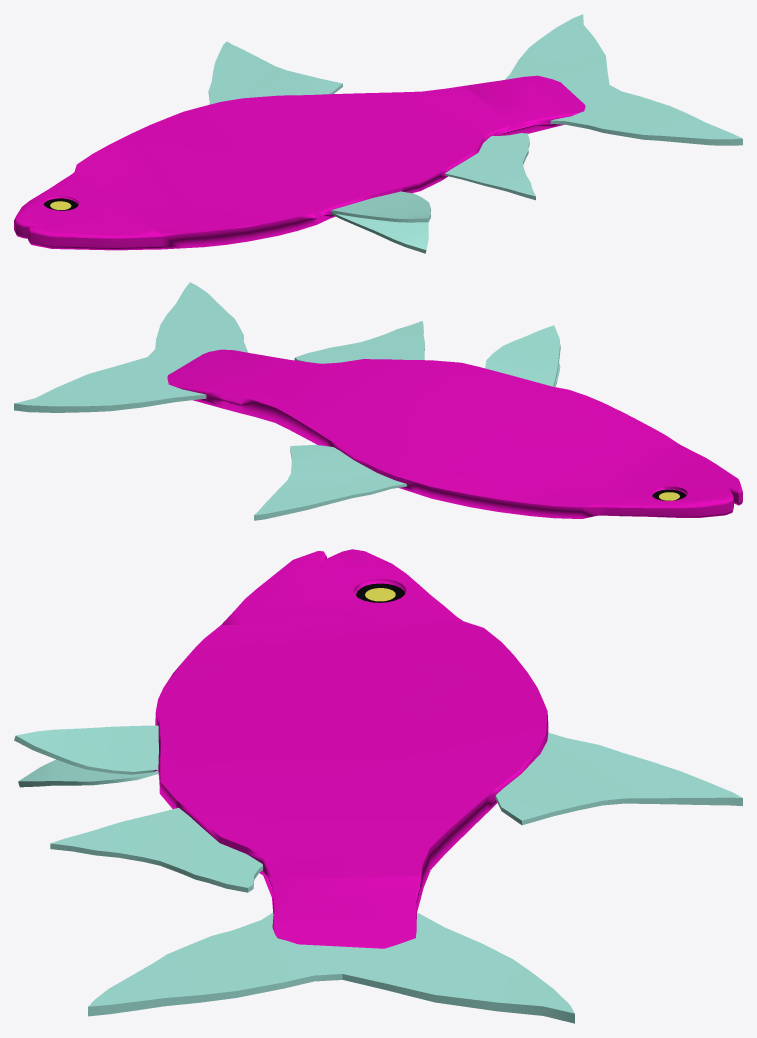
The model's file is kutvis.fbx.
The picture shows the model from 3 angles, top to bottom: view 1: azimuth 30°, elevation 25°; view 2: azimuth 150°, elevation 25°; view 3: azimuth 270°, elevation 25°; orthographic projection. The views are drawn at different scales.
Visible parts, largest first — view 1: polySurface10; view 2: polySurface10; view 3: polySurface10.
Boxes of the visible parts, x1,y1,x2,y2 form: polySurface10: [14, 14, 742, 253]; polySurface10: [14, 282, 742, 520]; polySurface10: [14, 549, 742, 1023].
Bounding box in the file's own units: 13.97 × 0.7519 × 9.46.
